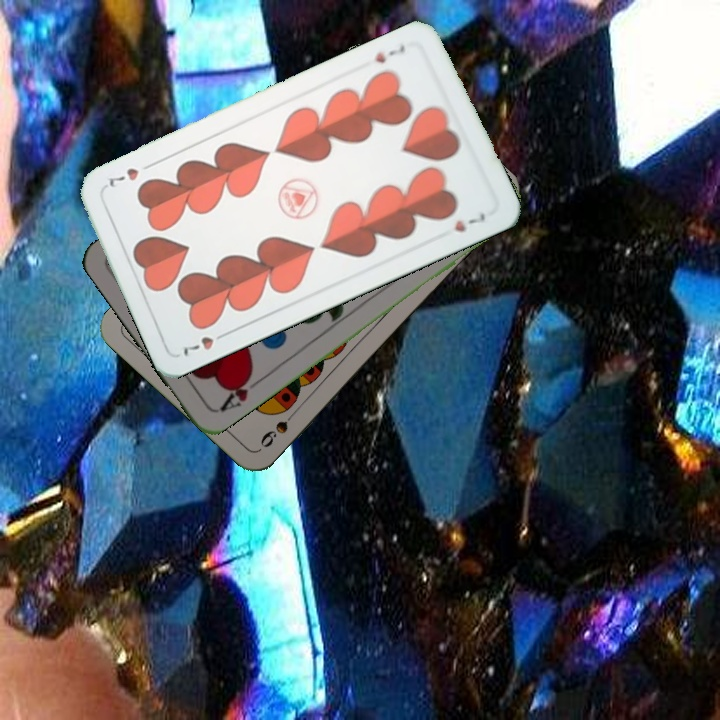H7: (177, 327, 232, 359), (371, 40, 408, 66)
HA: (215, 367, 265, 414)
S9: (256, 405, 301, 450)
